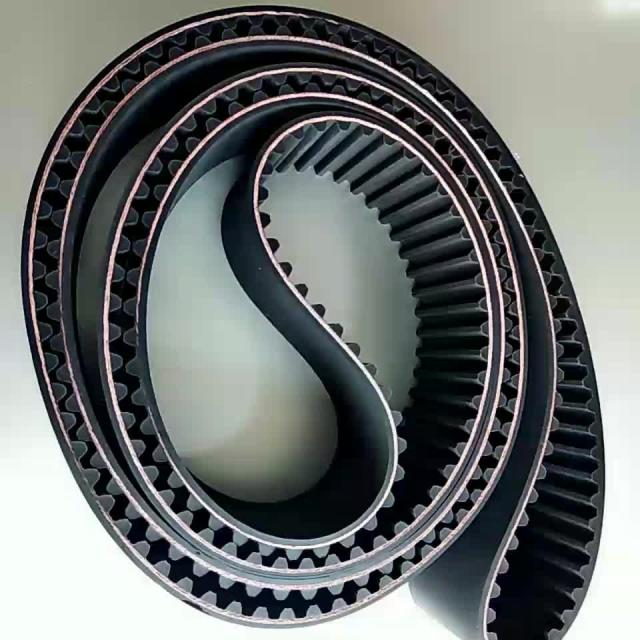conveyor: (20, 3, 640, 640)
